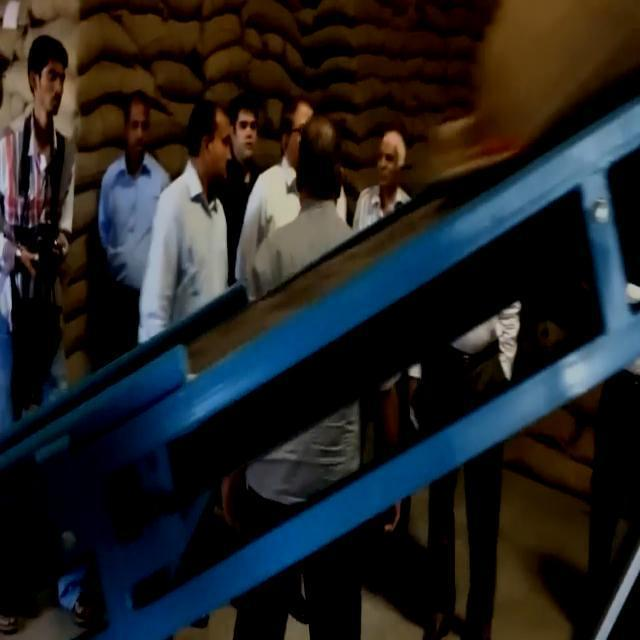gunny_bag: (400, 0, 638, 190)
